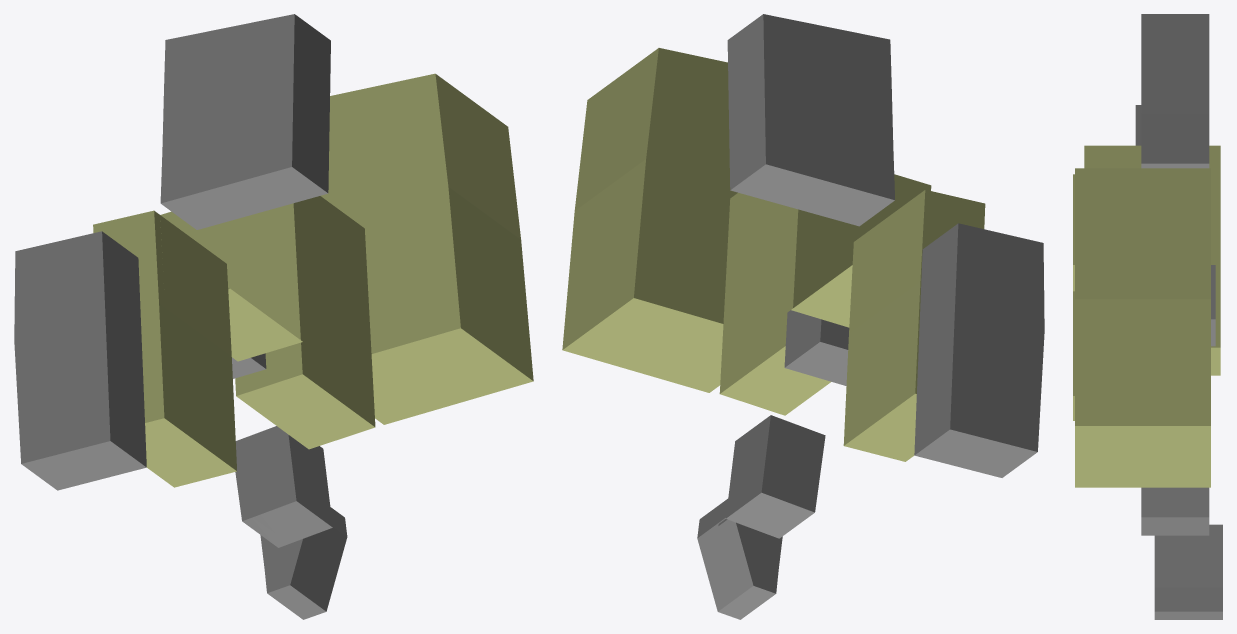
3 renders of one model, left to right at view 1: azimuth 30°, elevation 25°; view 2: azimuth 150°, elevation 25°; view 3: azimuth 270°, elevation 25°, orthographic. The views are drawn at different scales.
Visible parts, largest first — view 1: 0_1_2_0_0_2_2_0_2_0; view 2: 0_1_2_0_0_2_2_0_2_0; view 3: 0_1_2_0_0_2_2_0_2_0.
Part boxes in pixels (x1,y1,x2,y2): 0_1_2_0_0_2_2_0_2_0: (14, 14, 533, 619); 0_1_2_0_0_2_2_0_2_0: (562, 14, 1044, 619); 0_1_2_0_0_2_2_0_2_0: (1073, 14, 1222, 619).
Size of the model in its own units: 21.45 by 26.62 by 6.6.
